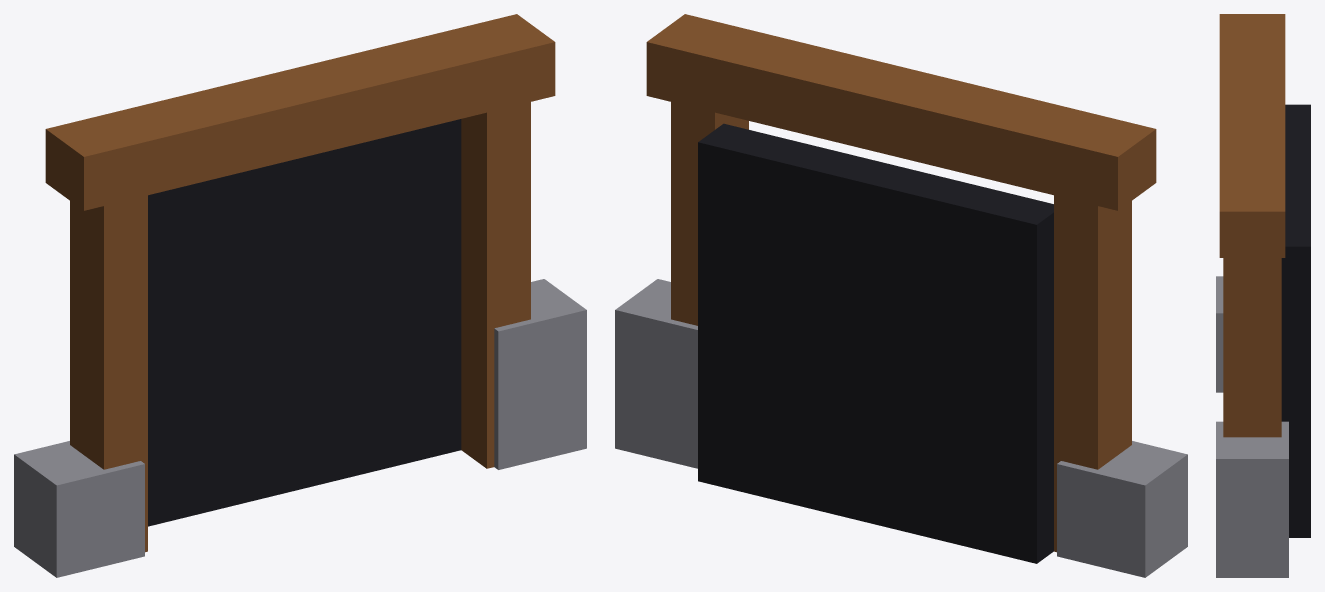
Rendered from mine_entrance.glb.
3 renders of one model, left to right at view 1: azimuth 30°, elevation 25°; view 2: azimuth 150°, elevation 25°; view 3: azimuth 270°, elevation 25°, orthographic. The views are drawn at different scales.
Visible parts, largest first — view 1: mine_entrance; view 2: mine_entrance; view 3: mine_entrance.
Part boxes in pixels (x1,y1,x2,y2): mine_entrance: [14, 14, 586, 577]; mine_entrance: [615, 14, 1187, 577]; mine_entrance: [1216, 14, 1310, 577].
Size of the model in its own units: 3.6 by 2.67 by 0.65.
